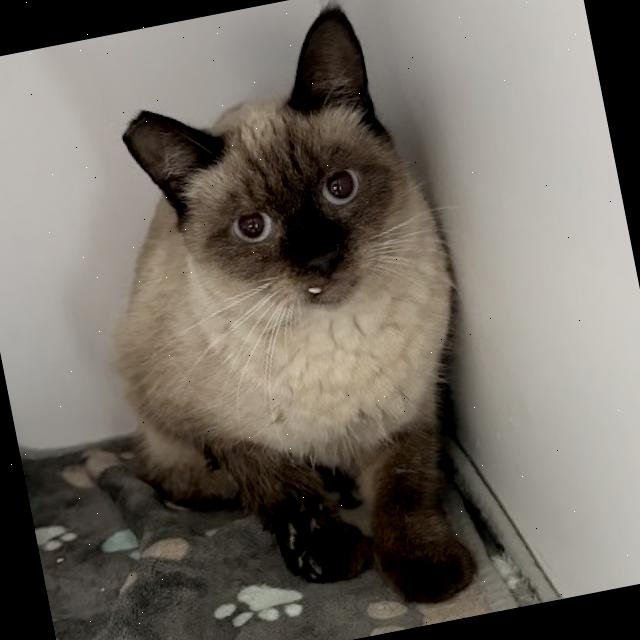siamese_cat: (90, 0, 449, 360)
